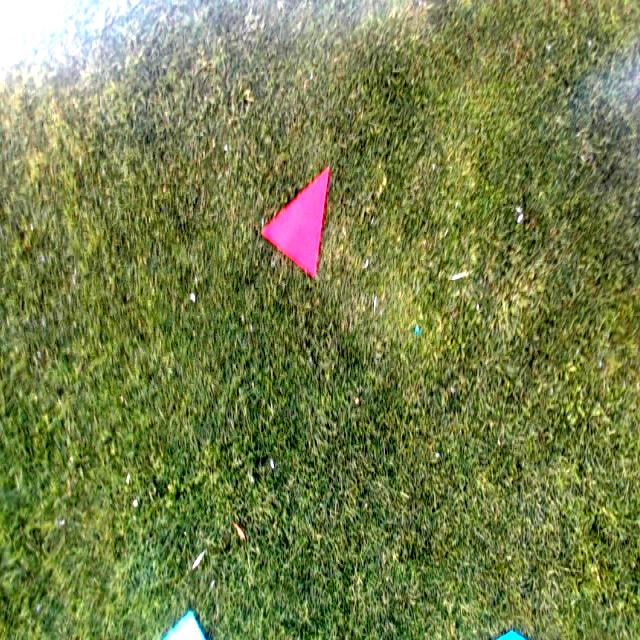red_triangle: (262, 168, 333, 278)
